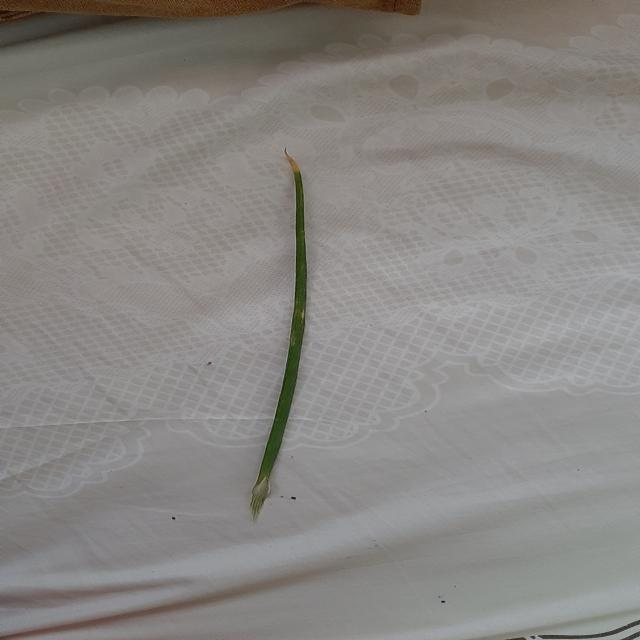onion: (249, 151, 306, 520)
